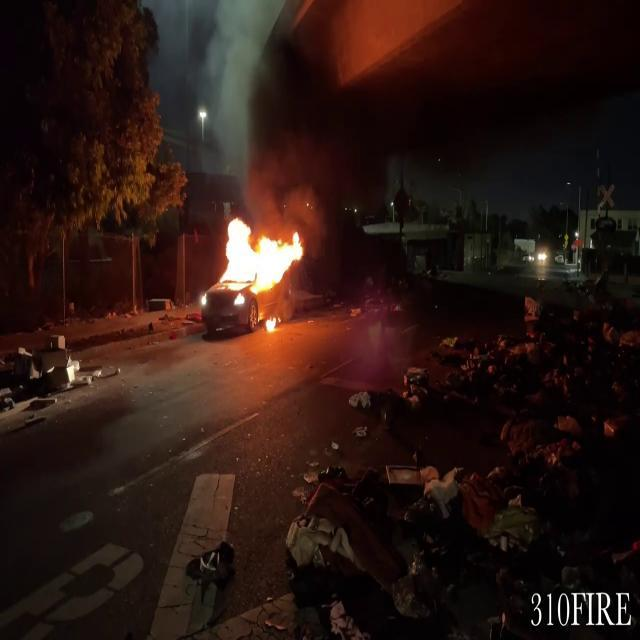Fire: (206, 208, 308, 308)
Smoke: (239, 36, 341, 238)
